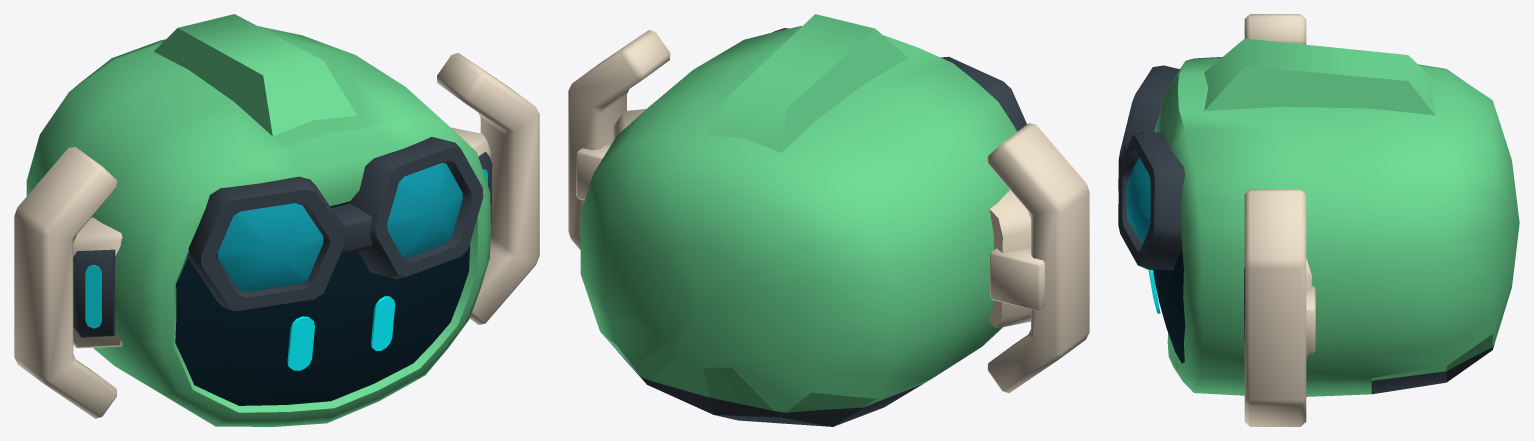
The model's file is copilot_tester_v01.glb.
3 views of the same model, side by side, from view 1: azimuth 30°, elevation 25°; view 2: azimuth 150°, elevation 25°; view 3: azimuth 270°, elevation 25° (orthographic). The views are drawn at different scales.
Parts seen in each view (by area): view 1: tester_model; view 2: tester_model; view 3: tester_model.
Part boxes in pixels (x1,y1,x2,y2): tester_model: (14, 14, 539, 426); tester_model: (568, 14, 1089, 426); tester_model: (1118, 14, 1519, 426).
Size of the model in its own units: 2.8 by 1.79 by 2.09.
Materials: 2 (2 with a texture image).
